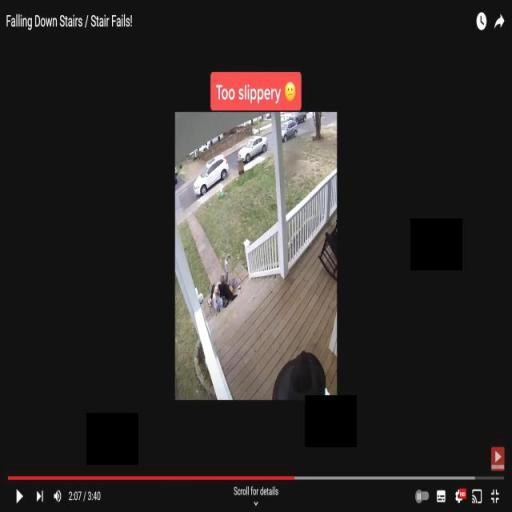Fall: (218, 253, 235, 301), (207, 283, 224, 313)
